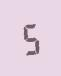five: (19, 21, 40, 55)
